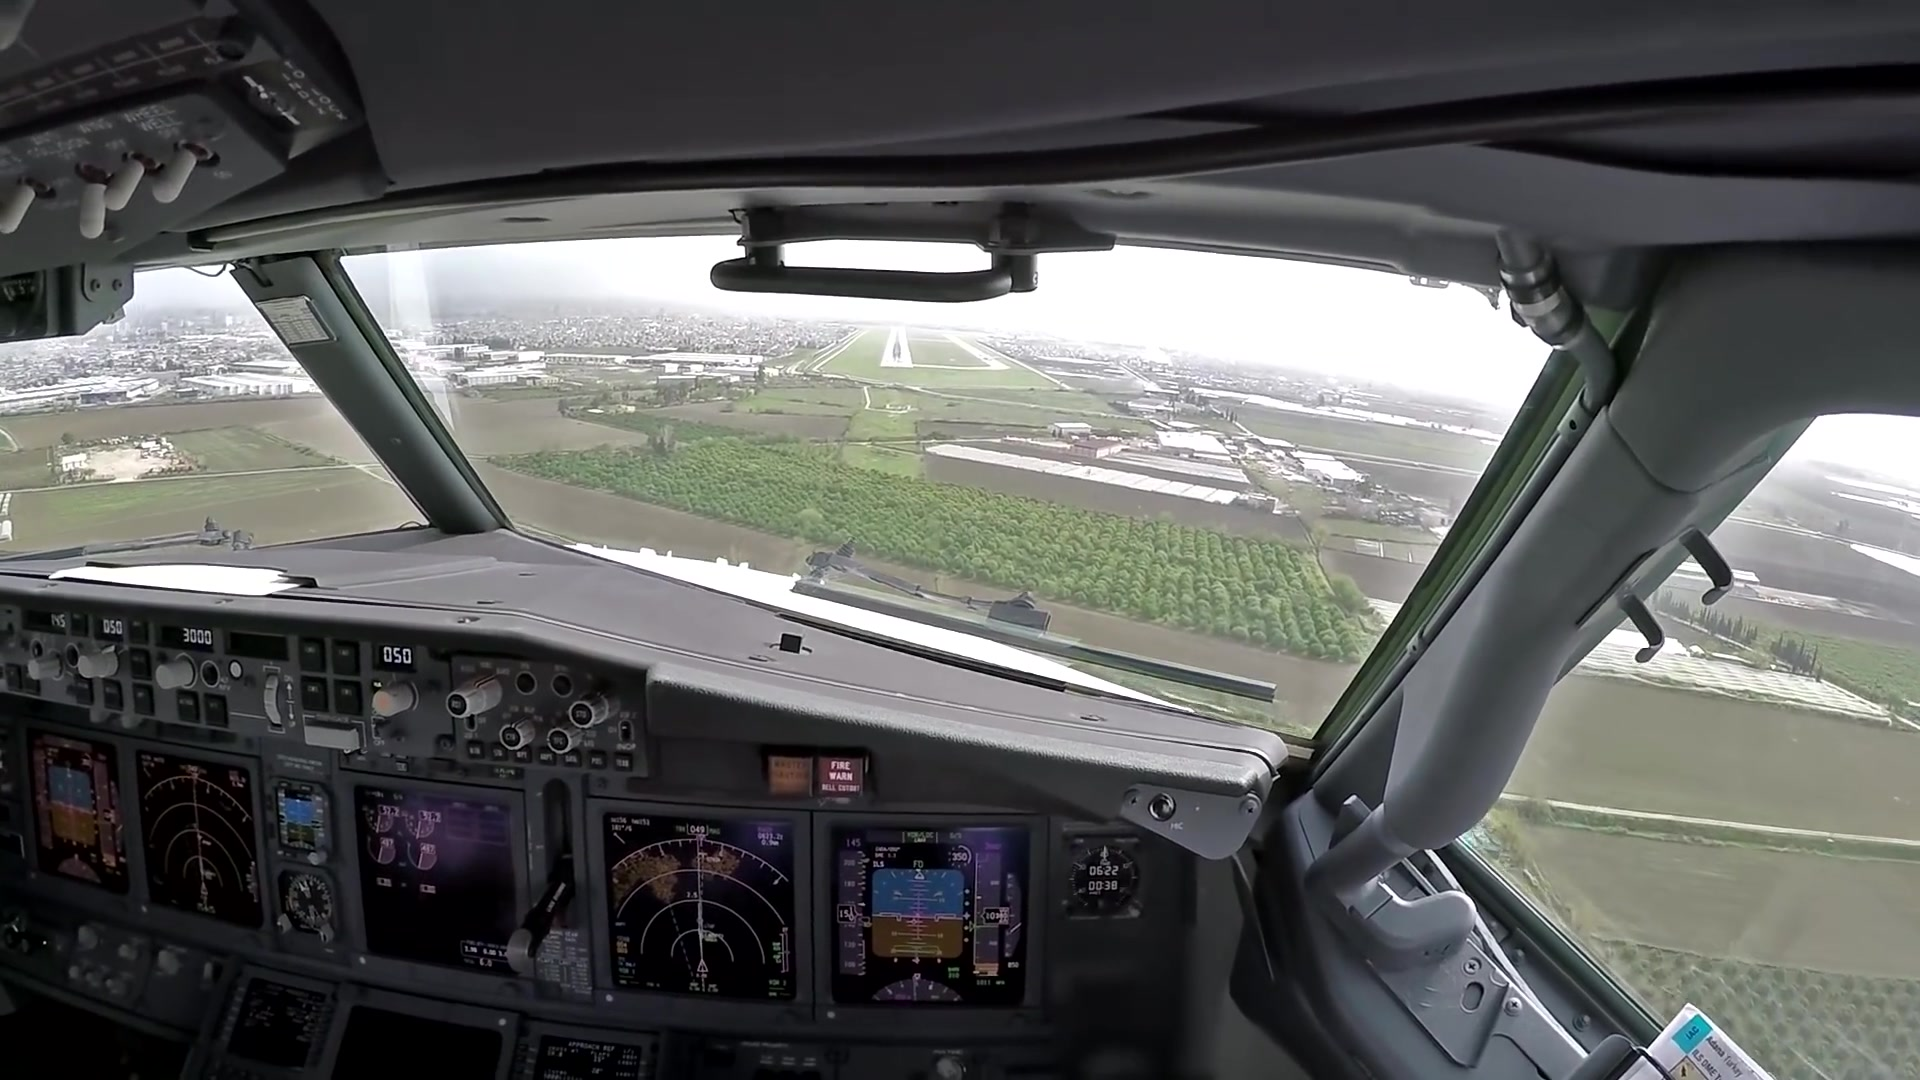runway: (878, 326, 913, 369)
